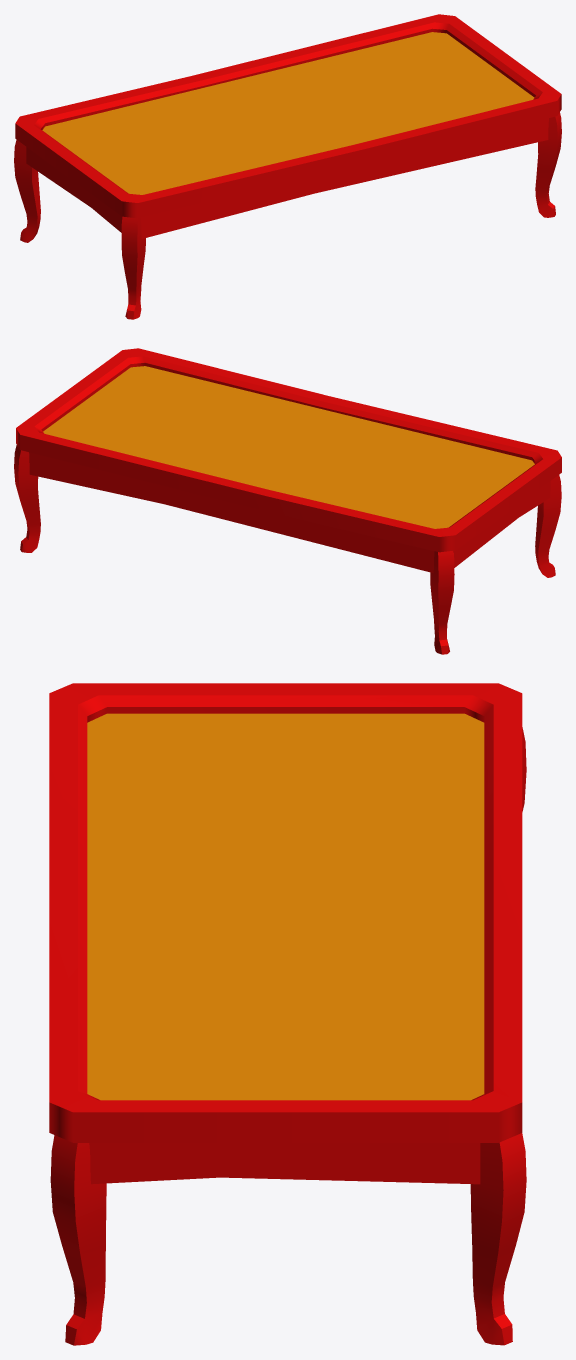
File: LR_CoffeeTable_1.fbx
3 views of the same model, one above another, from view 1: azimuth 30°, elevation 25°; view 2: azimuth 150°, elevation 25°; view 3: azimuth 270°, elevation 25° (orthographic). The views are drawn at different scales.
Parts seen in each view (by area): view 1: LR_CoffeeTable_1; view 2: LR_CoffeeTable_1; view 3: LR_CoffeeTable_1.
Part boxes in pixels (left/top/right/bottom): LR_CoffeeTable_1: left=14, top=14, right=561, bottom=319; LR_CoffeeTable_1: left=14, top=348, right=561, bottom=654; LR_CoffeeTable_1: left=49, top=683, right=526, bottom=1345.
Size of the model in its own units: 220 by 56.99 by 103.
